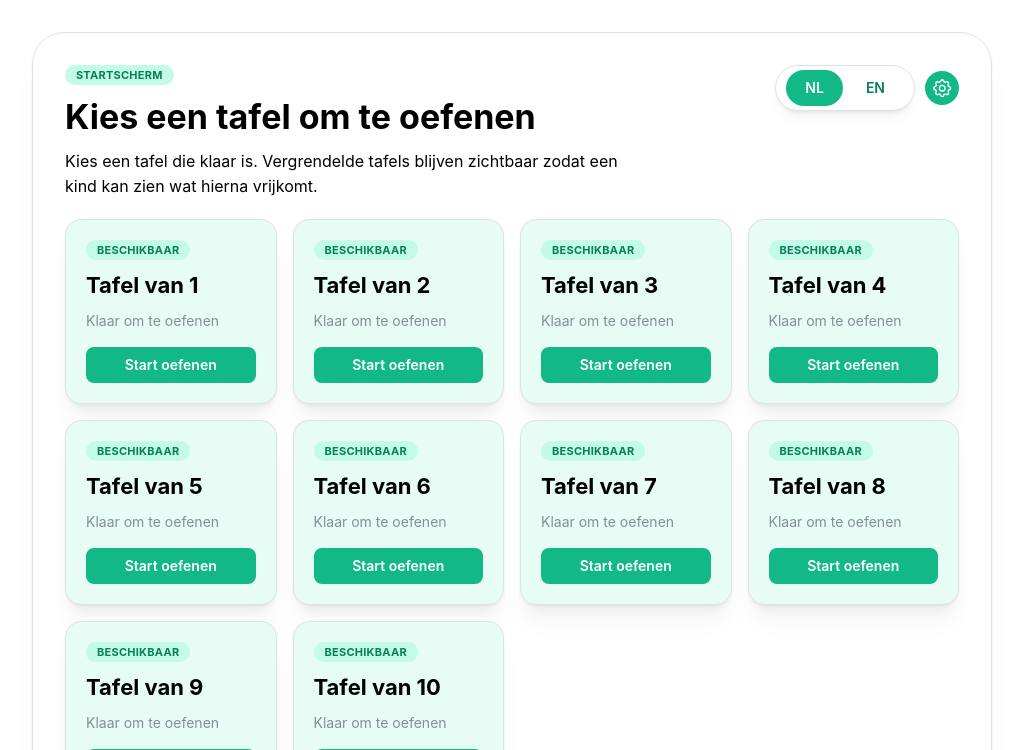
Test: GIVEN Dutch is active, WHEN I switch the app language to English, THEN the table-selection text updates immediately
Click the button with aria-label "English" at {"x": 875, "y": 88}, box x1=847 y1=70 x2=904 y2=106
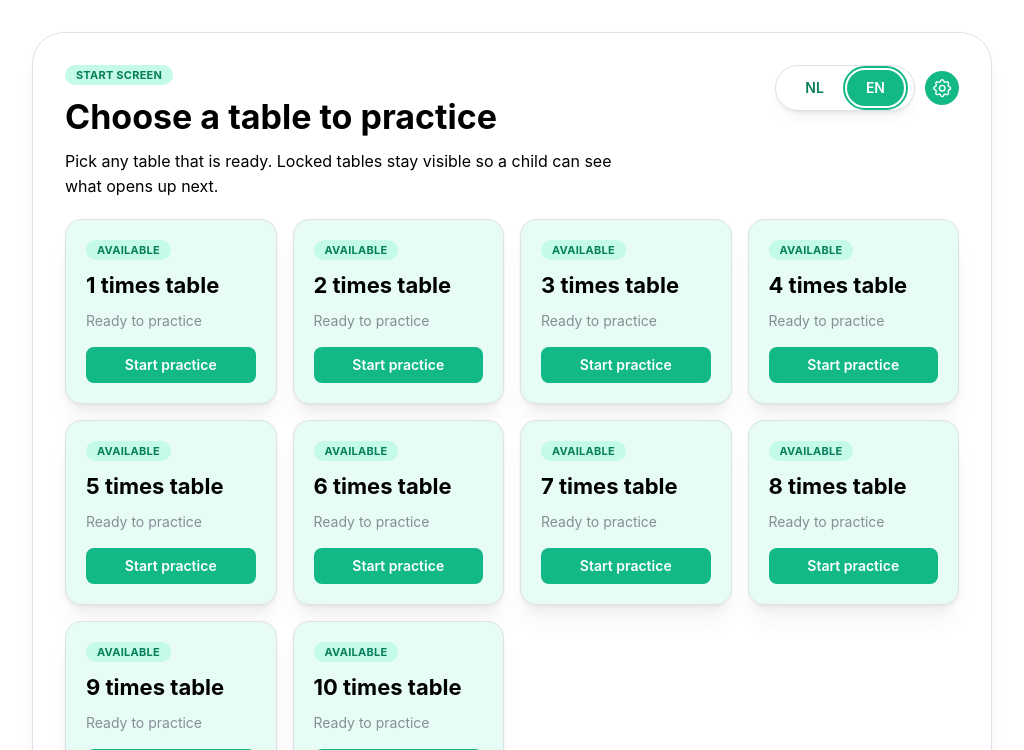
Result: the heading "Choose a table to practice" is shown at x1=65 y1=96 x2=497 y2=137
